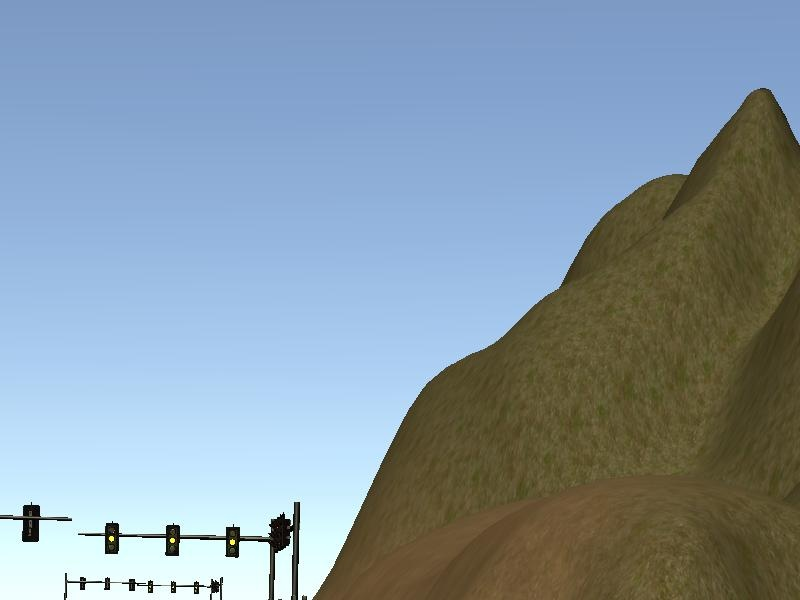yellow: (103, 523, 119, 554), (226, 527, 241, 558), (164, 525, 178, 557)
